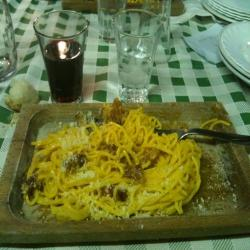carbonara: (19, 106, 211, 229)
